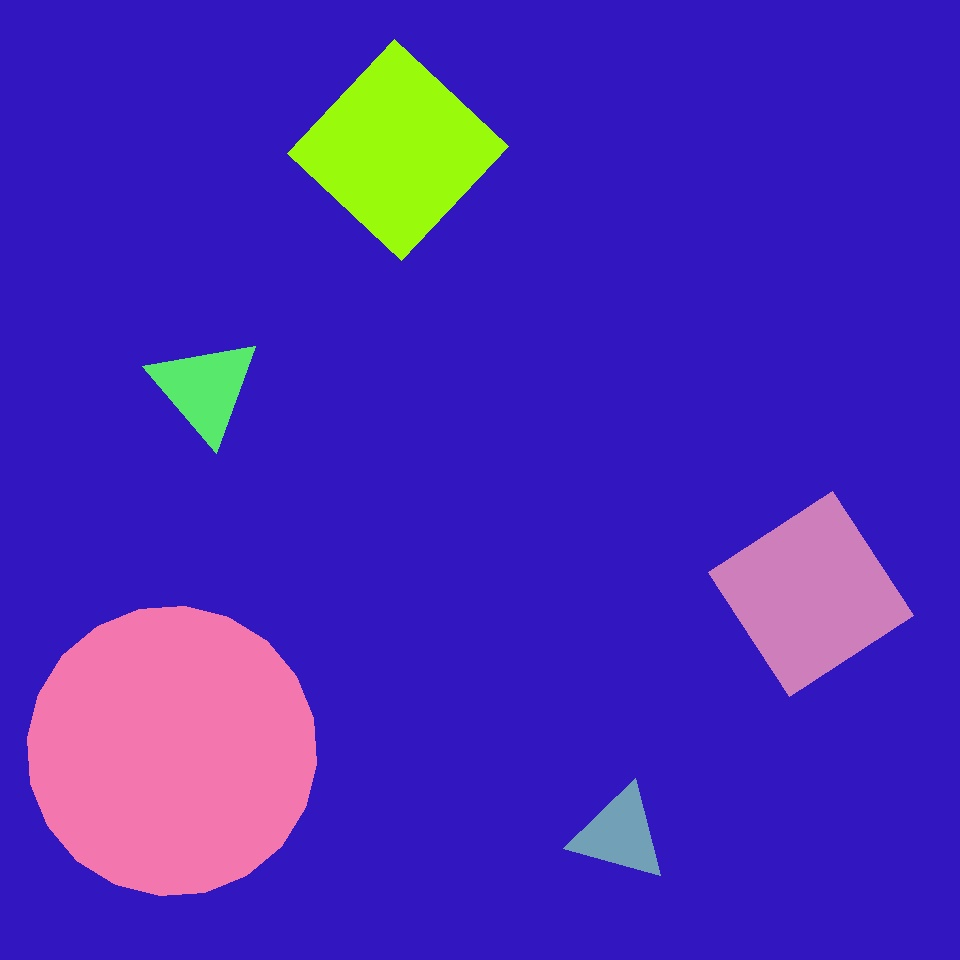circle: (148, 336, 262, 442), (572, 786, 668, 882)
square: (288, 40, 508, 260), (708, 492, 914, 696)
triangle: (28, 606, 316, 896)
